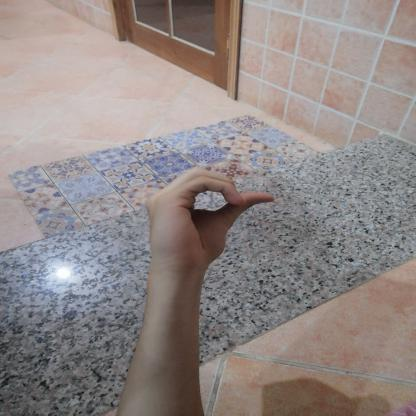WAW: (133, 159, 291, 282)
